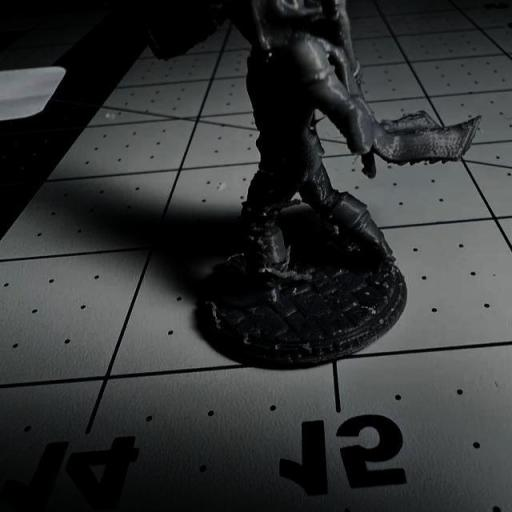blobs: (277, 152, 292, 166), (250, 222, 264, 235), (240, 204, 254, 216), (271, 208, 282, 219), (258, 210, 269, 220), (256, 238, 267, 248), (326, 212, 335, 222), (258, 266, 267, 275), (266, 186, 276, 194), (246, 234, 254, 243)
